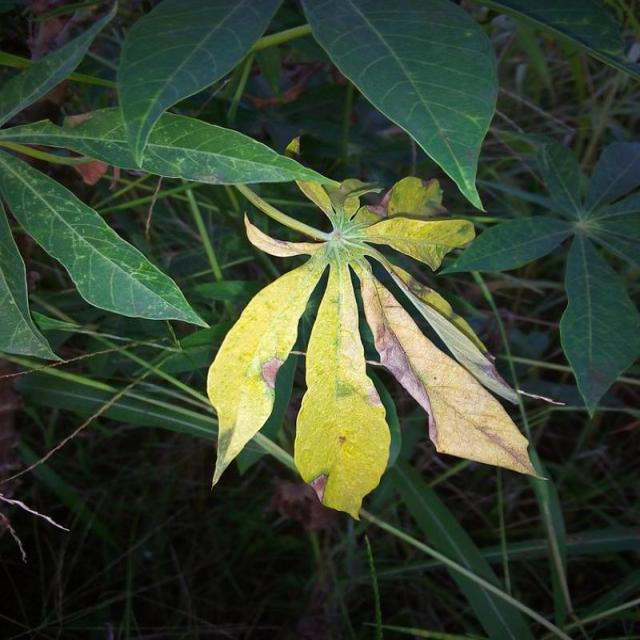cassava leaf: (206, 172, 548, 520), (301, 0, 501, 212), (2, 148, 211, 330), (3, 103, 344, 189), (116, 0, 283, 170)
